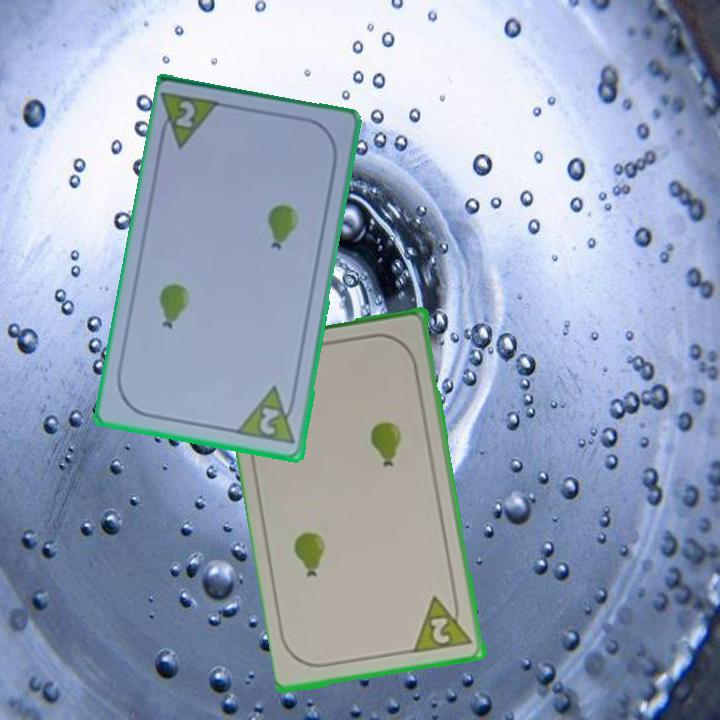2p: (233, 383, 300, 448), (412, 590, 476, 657), (172, 97, 199, 131)
